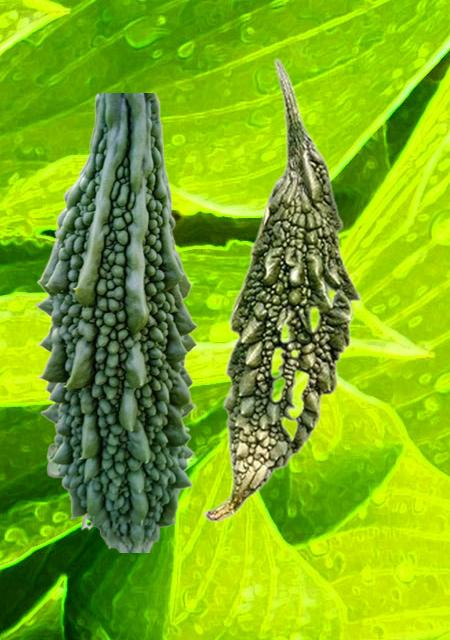ampalaya: (34, 93, 197, 551), (202, 56, 361, 521)
